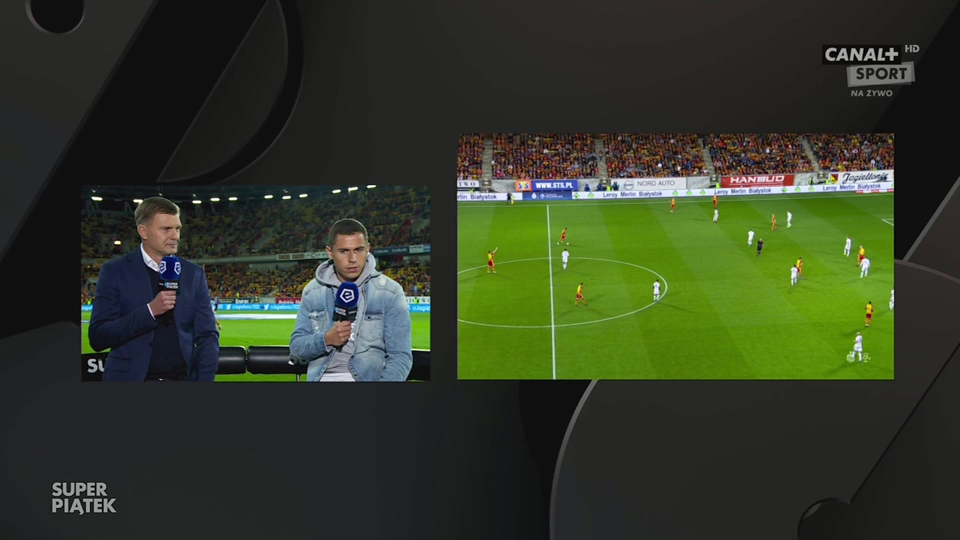pko: (530, 191, 538, 200)
